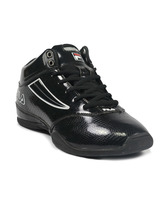shoes: (13, 48, 155, 158)
